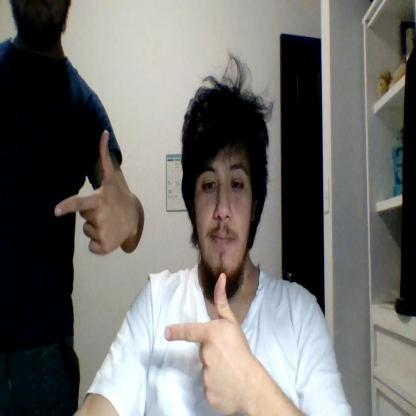G: (164, 272, 250, 414), (54, 129, 128, 255)
